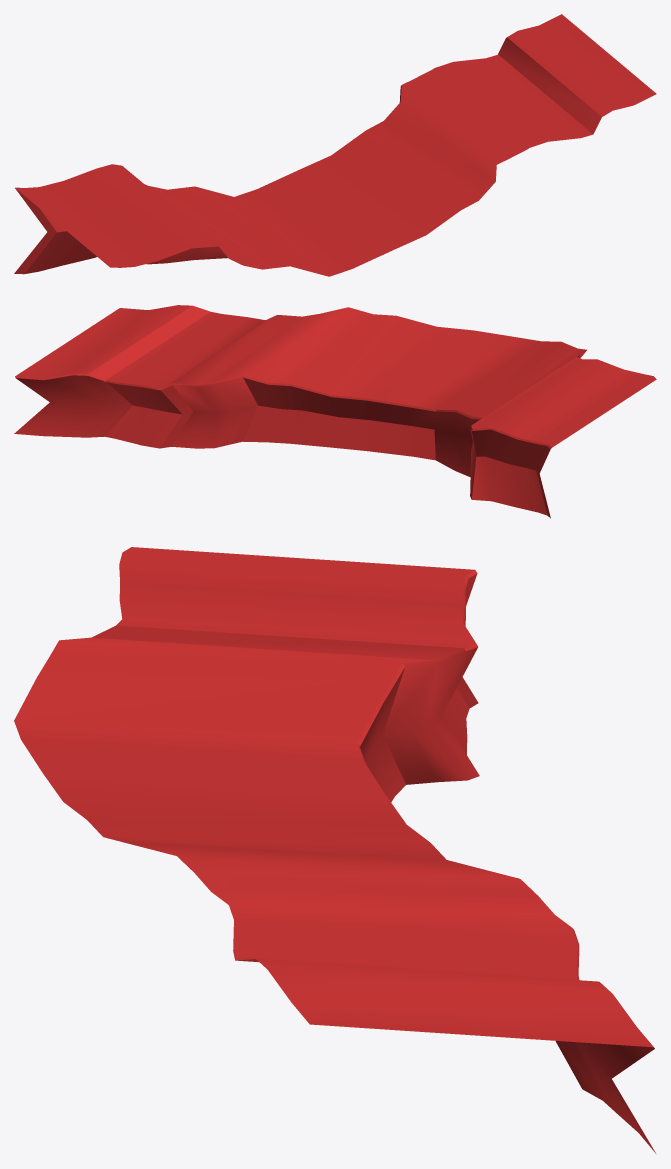
The model's file is Canyon_C.fbx.
3 renders of one model, top to bottom at view 1: azimuth 30°, elevation 25°; view 2: azimuth 150°, elevation 25°; view 3: azimuth 270°, elevation 25°, orthographic. The views are drawn at different scales.
Visible parts, largest first — view 1: Canyon_C; view 2: Canyon_C; view 3: Canyon_C.
Part boxes in pixels (x1,y1,x2,y2): Canyon_C: (14,14,656,276); Canyon_C: (14,305,656,518); Canyon_C: (14,547,655,1153).
Size of the model in its own units: 10652 by 1579 by 6228.
